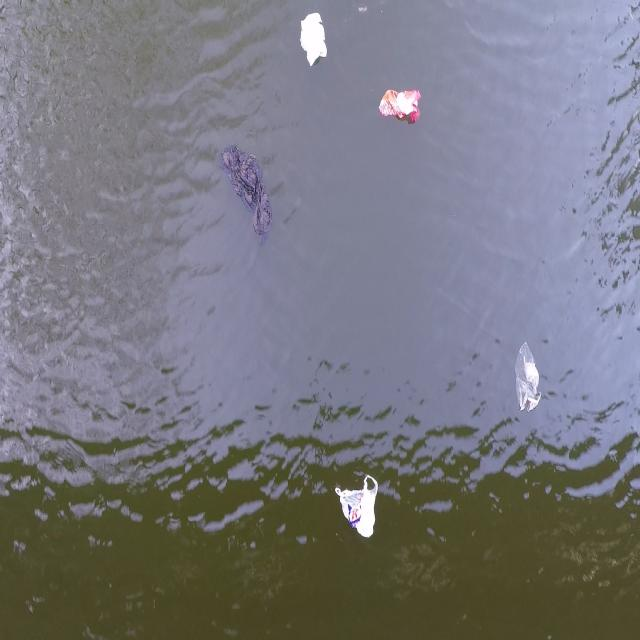Sac plastique: (216, 137, 277, 243), (330, 470, 384, 543), (374, 78, 428, 131), (294, 5, 334, 72), (512, 337, 543, 418)
